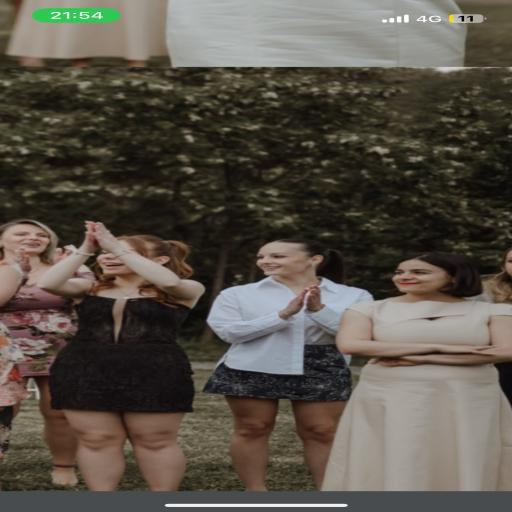marija: (255, 240, 322, 278)
